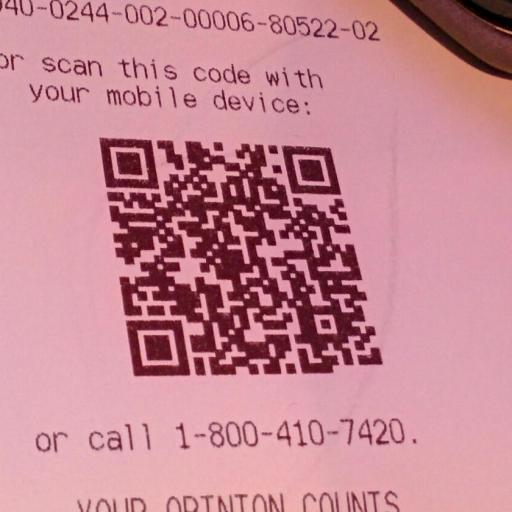qr_code: (99, 137, 383, 377)
